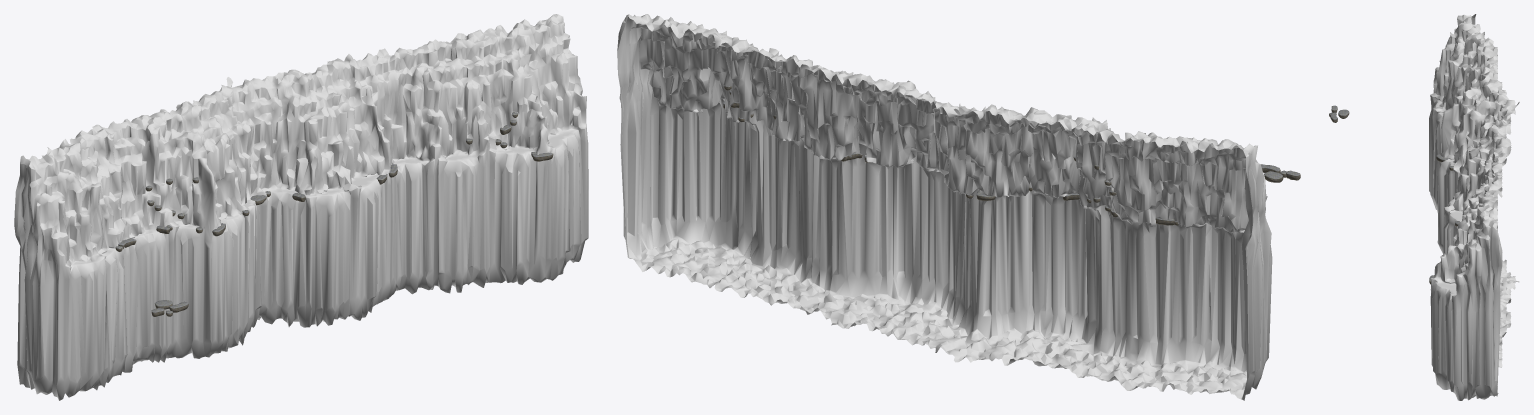
Rendered from berg_2.fbx.
3 renders of one model, left to right at view 1: azimuth 30°, elevation 25°; view 2: azimuth 150°, elevation 25°; view 3: azimuth 270°, elevation 25°, orthographic. The views are drawn at different scales.
Visible parts, largest first — view 1: Hexgrid; view 2: Hexgrid; view 3: Hexgrid.
Part boxes in pixels (x1=…): Hexgrid: x1=14, y1=14, x2=588, y2=400; Hexgrid: x1=617, y1=14, x2=1272, y2=400; Hexgrid: x1=1429, y1=14, x2=1519, y2=400.
Bounding box in the file's own units: 17475 × 6928 × 6571.
